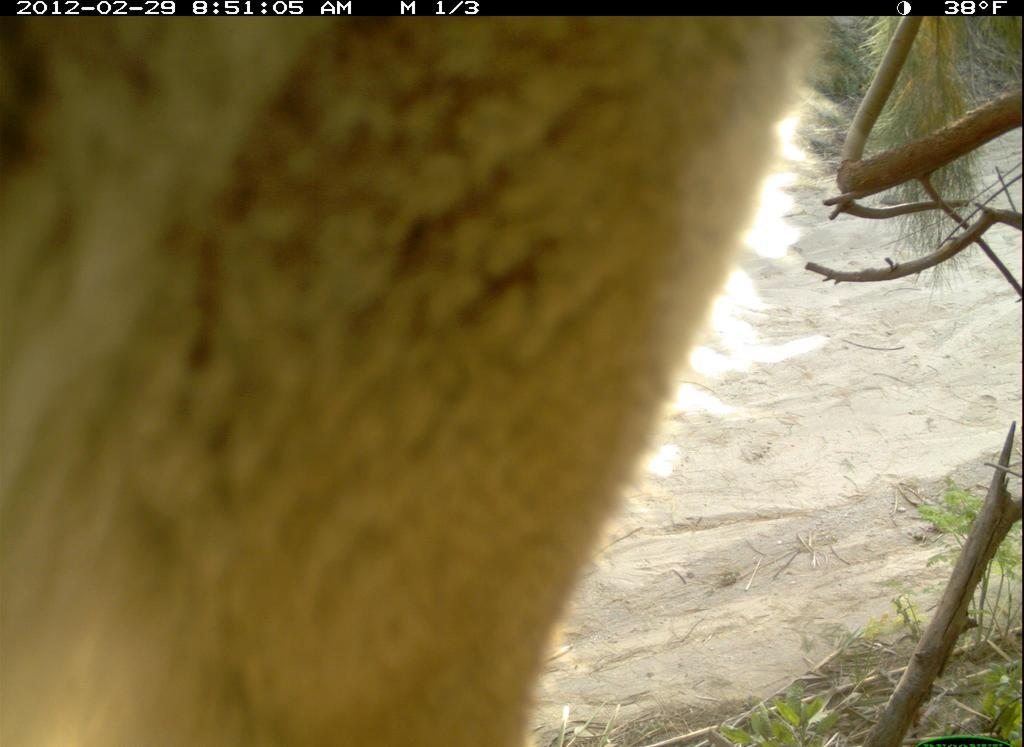coyote: (6, 16, 839, 747)
